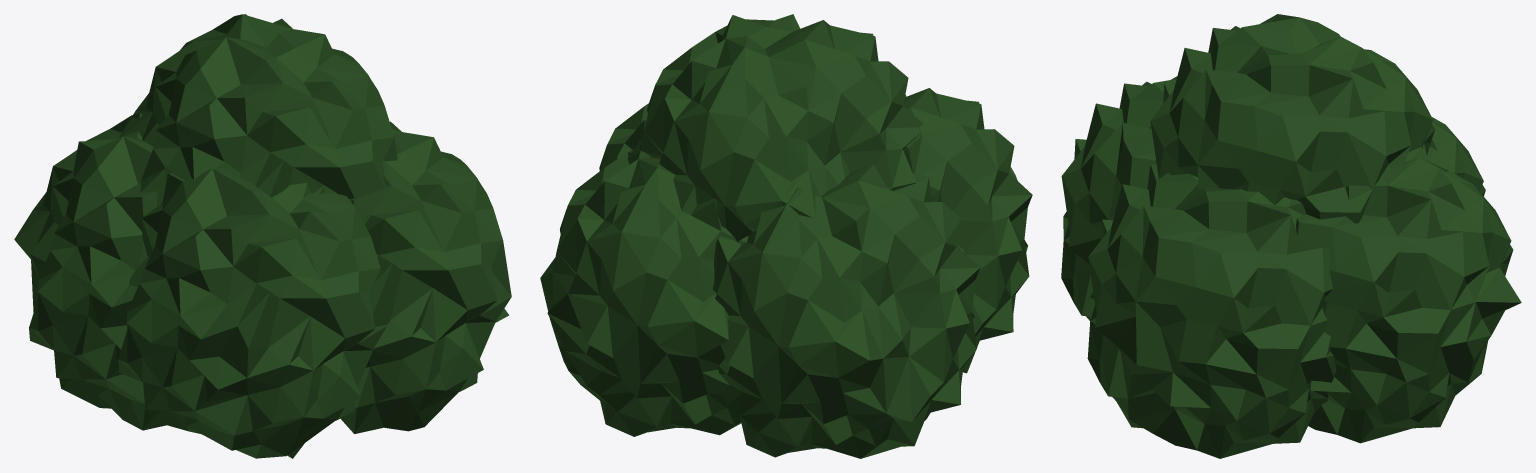
The model's file is folliage16.glb.
The picture shows the model from 3 angles, left to right: view 1: azimuth 30°, elevation 25°; view 2: azimuth 150°, elevation 25°; view 3: azimuth 270°, elevation 25°; orthographic projection. The views are drawn at different scales.
Parts seen in each view (by area): view 1: LowPoly Tree 07.033; view 2: LowPoly Tree 07.033; view 3: LowPoly Tree 07.033.
Part boxes in pixels (box(x1,y1,x2,y2)): LowPoly Tree 07.033: box(14, 14, 511, 458); LowPoly Tree 07.033: box(540, 14, 1032, 458); LowPoly Tree 07.033: box(1061, 14, 1521, 458).
Size of the model in its own units: 0.4848 by 0.4129 by 0.4861.
